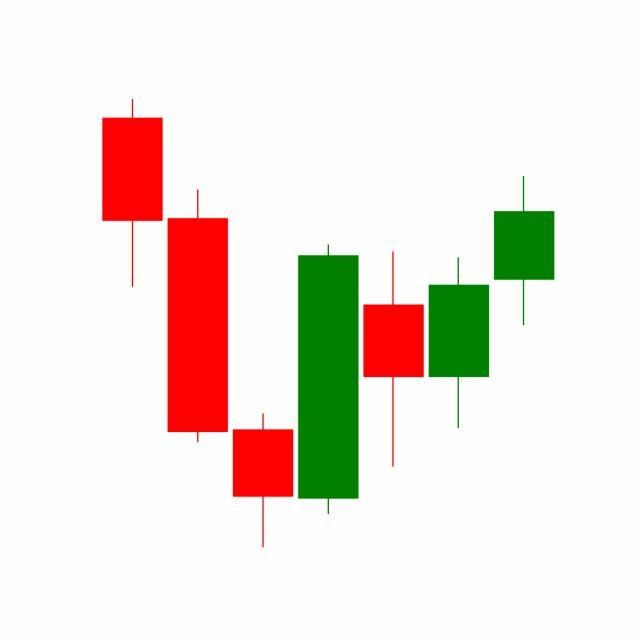Hikkake Pattern: (229, 172, 555, 549)
